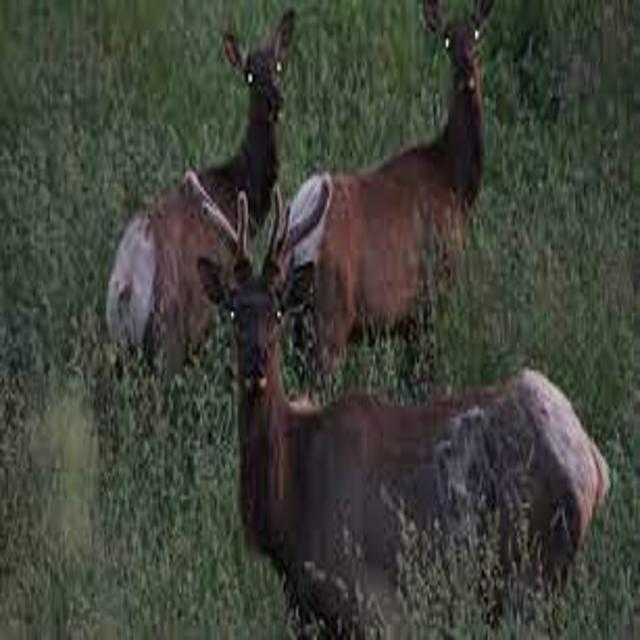Deer: (160, 244, 626, 618), (98, 11, 354, 392), (358, 0, 528, 381)
